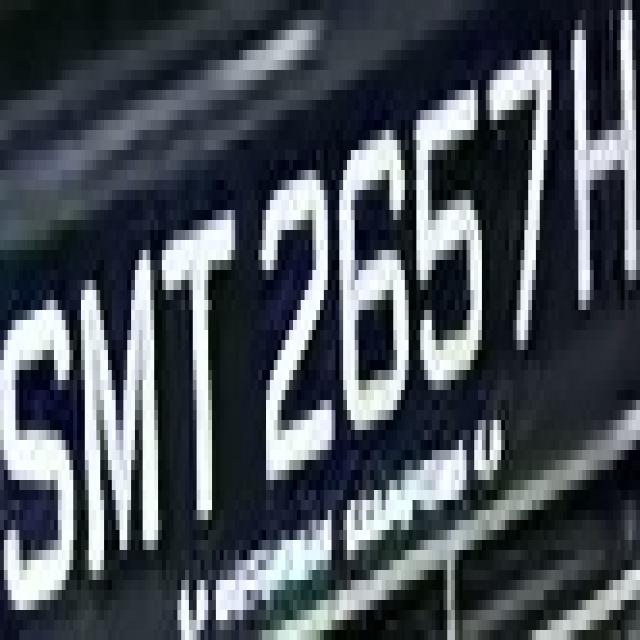2: (254, 140, 336, 510)
5: (408, 70, 494, 380)
6: (332, 110, 416, 450)
7: (486, 20, 559, 370)
H: (566, 0, 640, 320)
M: (77, 210, 162, 610)
S: (8, 260, 81, 640)
T: (142, 190, 246, 560)
